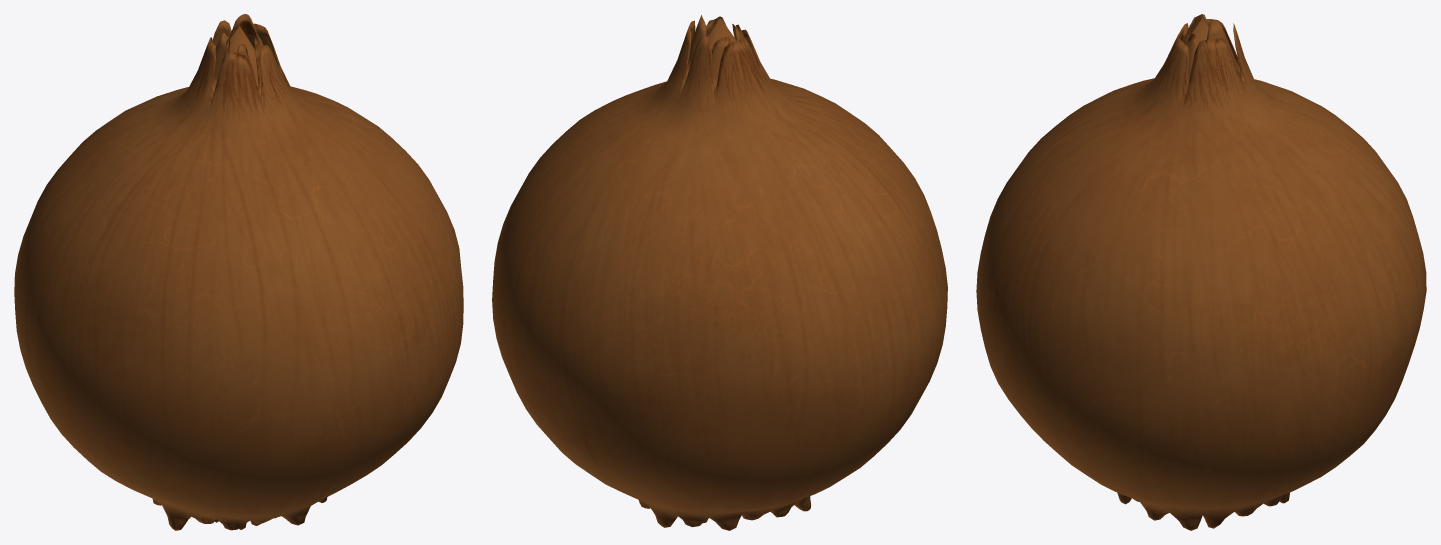
The model's file is Onion.fbx.
3 views of the same model, side by side, from view 1: azimuth 30°, elevation 25°; view 2: azimuth 150°, elevation 25°; view 3: azimuth 270°, elevation 25° (orthographic).
Parts seen in each view (by area): view 1: Sphere; view 2: Sphere; view 3: Sphere.
Part boxes in pixels (box(x1,y1,x2,y2)): Sphere: box(14, 14, 463, 530); Sphere: box(492, 15, 947, 530); Sphere: box(976, 14, 1426, 530).
Bounding box in the file's own units: 414 × 489 × 413.
Materials: 3 (3 with a texture image).
